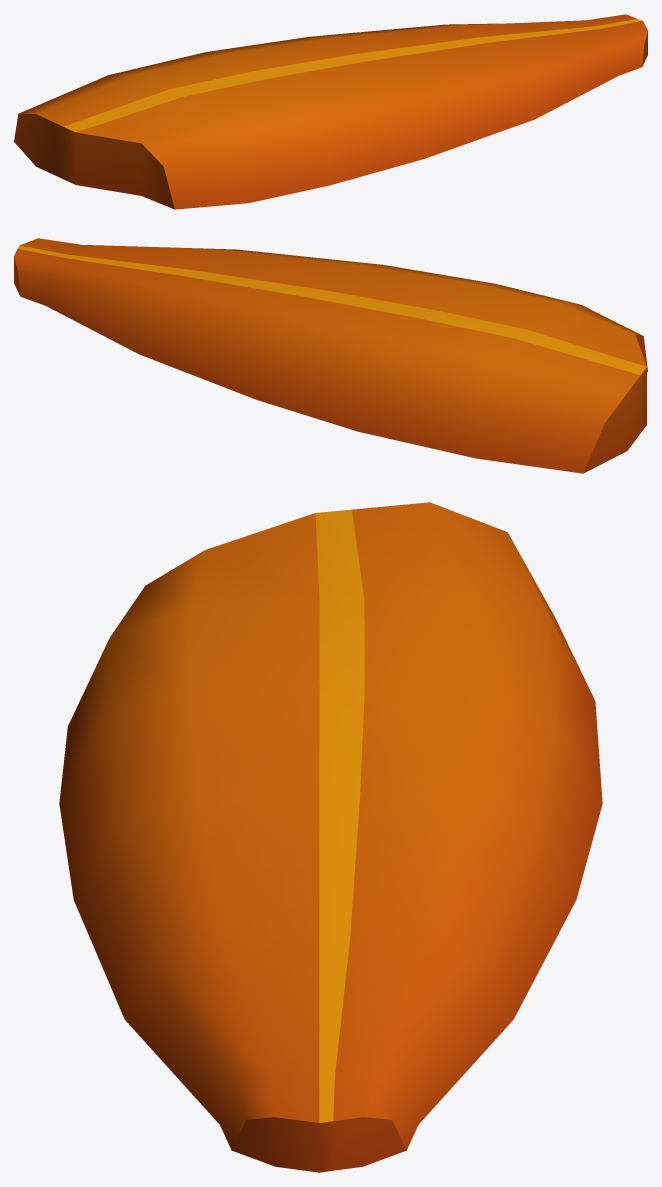
The model's file is Salmon_Meat_03.glb.
3 views of the same model, one above another, from view 1: azimuth 30°, elevation 25°; view 2: azimuth 150°, elevation 25°; view 3: azimuth 270°, elevation 25° (orthographic). The views are drawn at different scales.
Parts seen in each view (by area): view 1: Salmon_Meat_03; view 2: Salmon_Meat_03; view 3: Salmon_Meat_03.
Part boxes in pixels (box(x1,y1,x2,y2)): Salmon_Meat_03: box(14, 14, 647, 209); Salmon_Meat_03: box(14, 238, 647, 473); Salmon_Meat_03: box(59, 502, 602, 1172).
Size of the model in its own units: 0.8176 by 0.0822 by 0.3321.
Materials: 1 (1 with a texture image).
